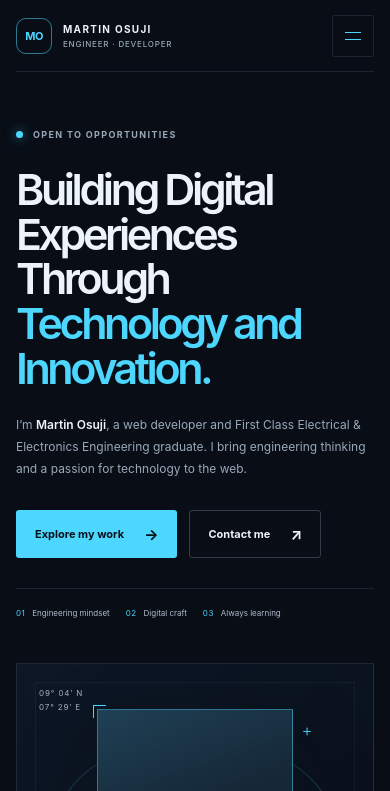
Test: mobile navigation opens and closes after choosing a section
Click the button named "open navigation menu": {"x": 353, "y": 36} [332,14,374,56]
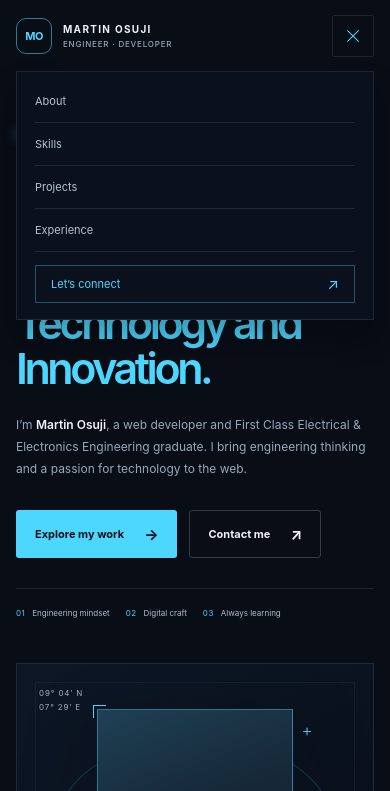
Now the button named "open navigation menu" is expanded, box [332,14,374,56]
Click the link "Projects": {"x": 56, "y": 187} [35,166,355,209]
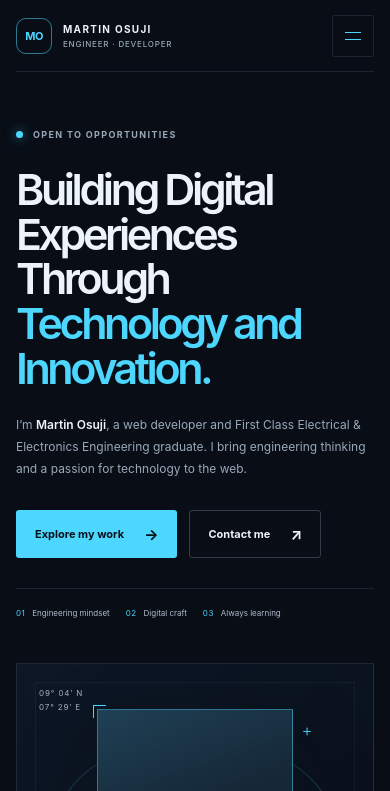
Now the button named "open navigation menu" is collapsed, box [332,14,374,56]
